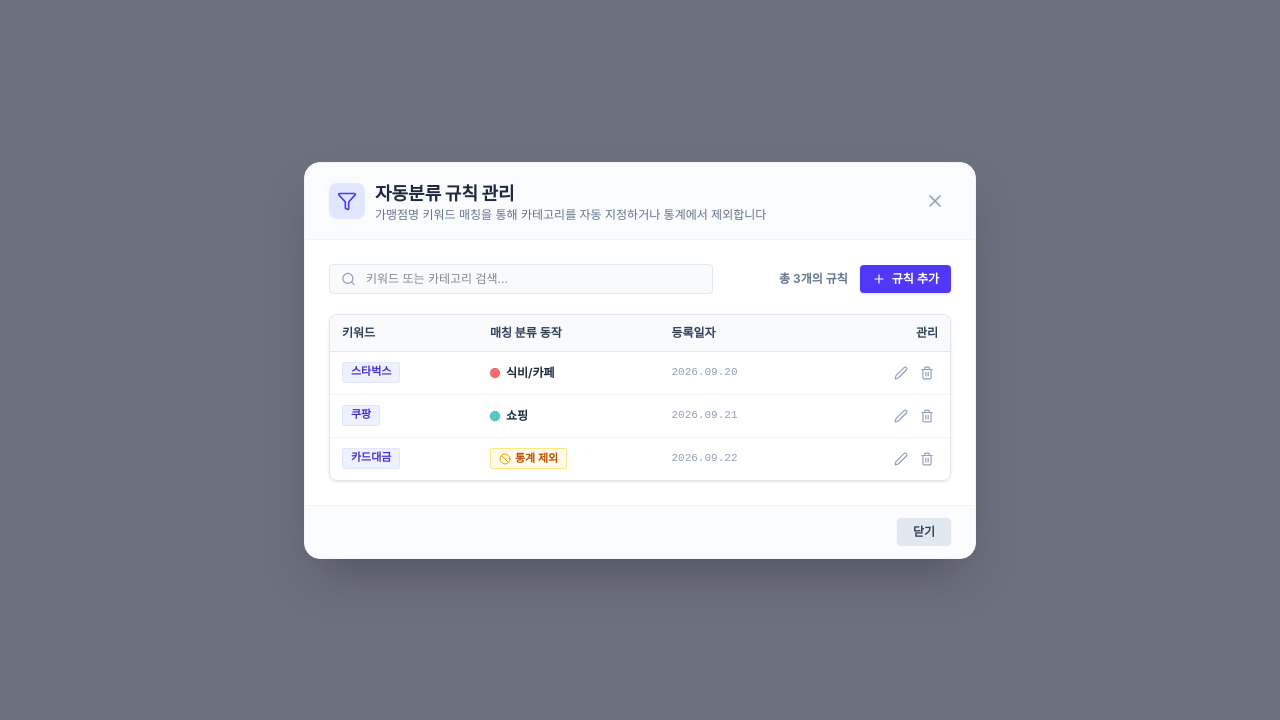
Test: ExpenseRulesModal 컴포넌트 › 유효성 검사: 키워드가 없거나 카테고리 분류에서 카테고리를 선택하지 않으면 에러를 표시한다
Check: the text "스타벅스" is shown, box [342,362,400,383]
Click the button with test id "add-rule-button": coordinates (905, 278) [860,264,951,292]
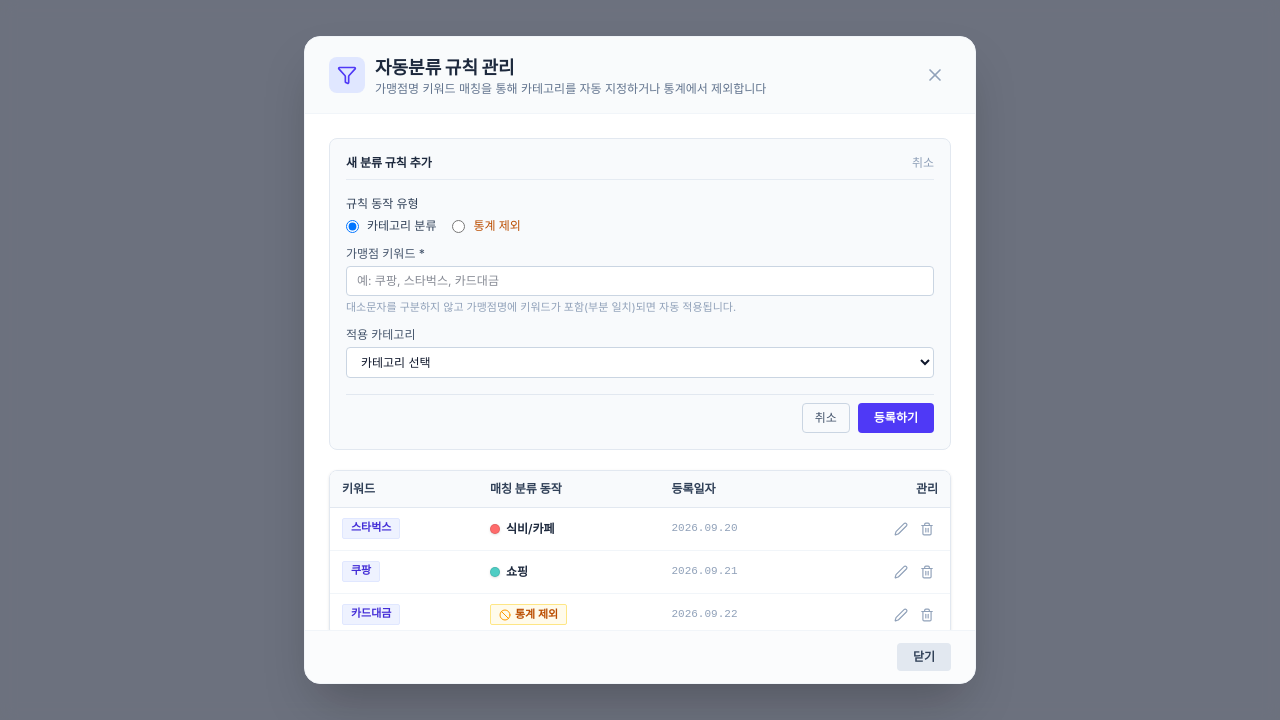
키워드 빈 상태로 제출
Click the button "등록하기": coordinates (896, 418) [858,403,934,433]
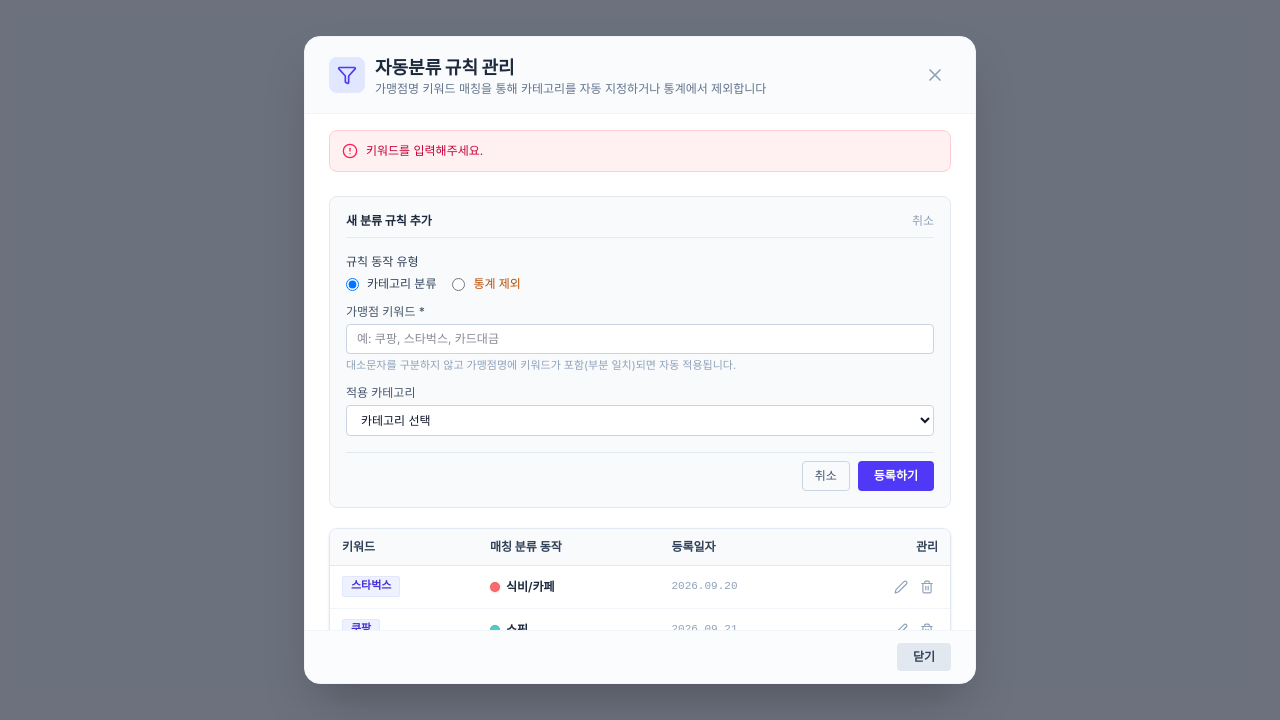
Check: the text "키워드를 입력해주세요." is shown, box [366,143,483,159]
키워드 입력 후 카테고리 미선택 상태로 제출
In the field with placeholder "예: 쿠팡, 스타벅스, 카드대금": coordinates (640, 339) [346,324,934,354], type "테스트"
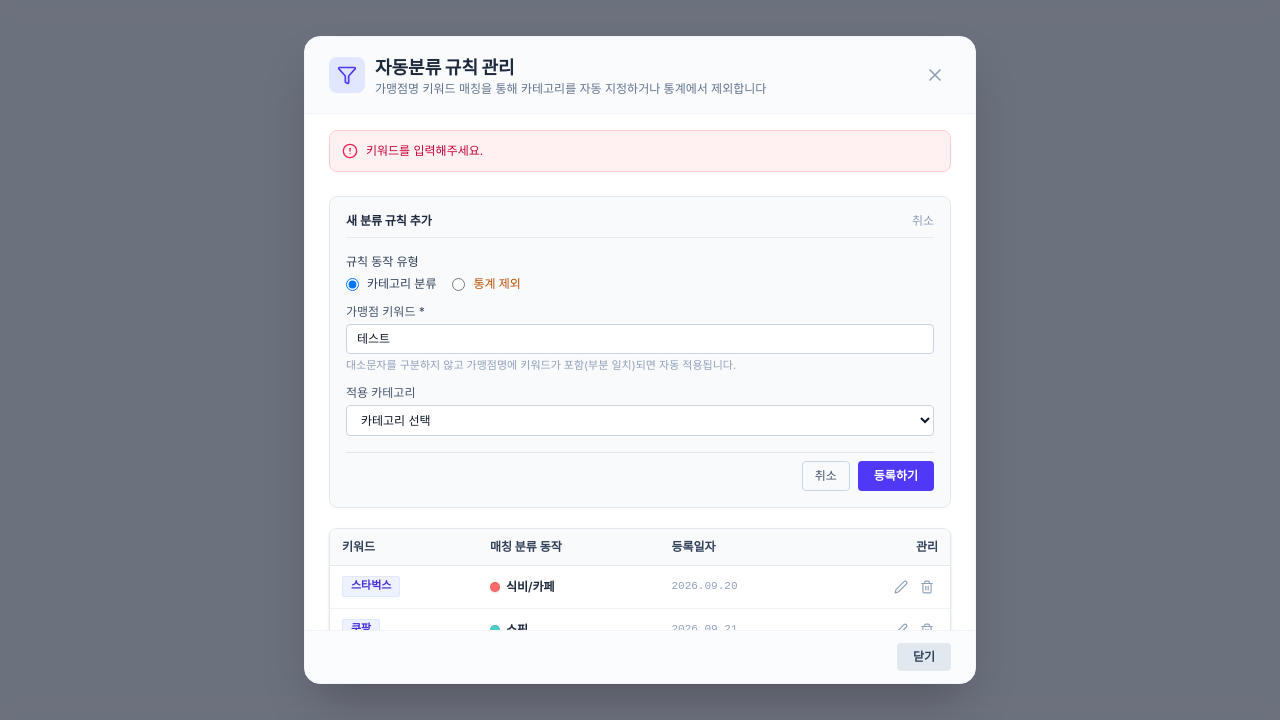
Click the button "등록하기": coordinates (896, 476) [858,461,934,491]
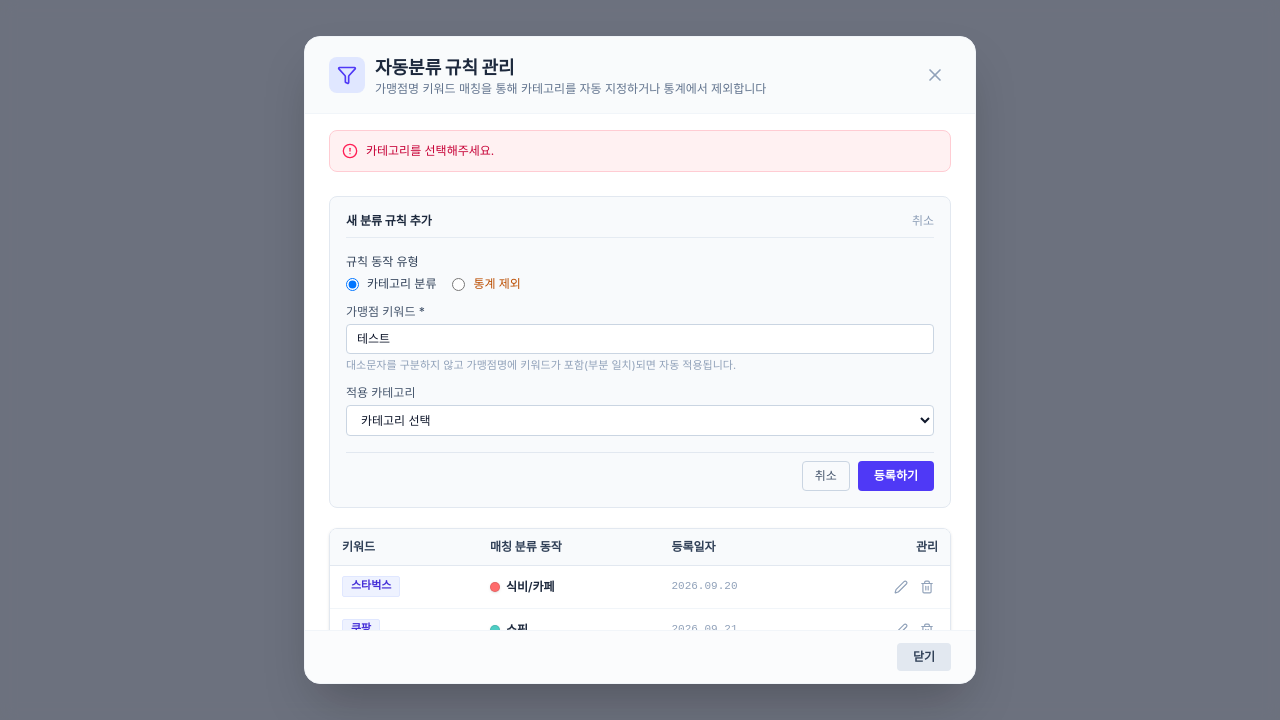
Check: the text "카테고리를 선택해주세요." is shown, box [366,143,494,159]
